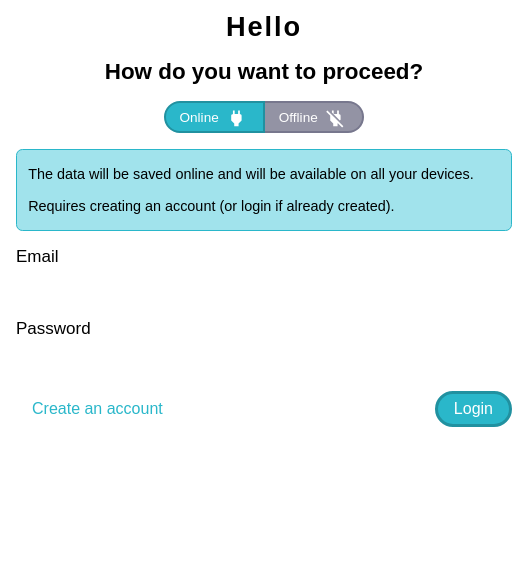
Test: <Auth /> › online mode › should display name message when click on submit button but email is empty
The width and height of the screenshot is (529, 567).
Click the button "Create an account".
click(97, 409)  # box [16, 394, 179, 424]
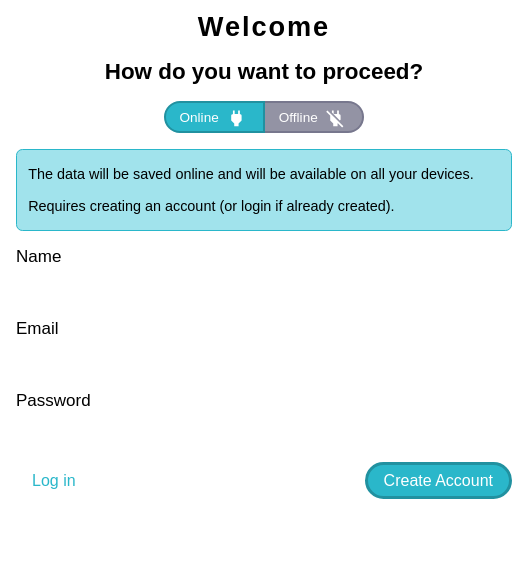
Click the button "Create Account".
click(438, 481)  # box [365, 462, 512, 499]
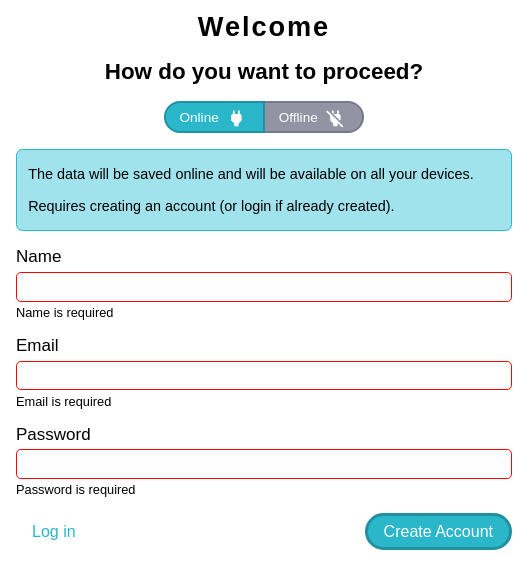
expect the text "Name is required" is shown: met, box [16, 305, 114, 320]
